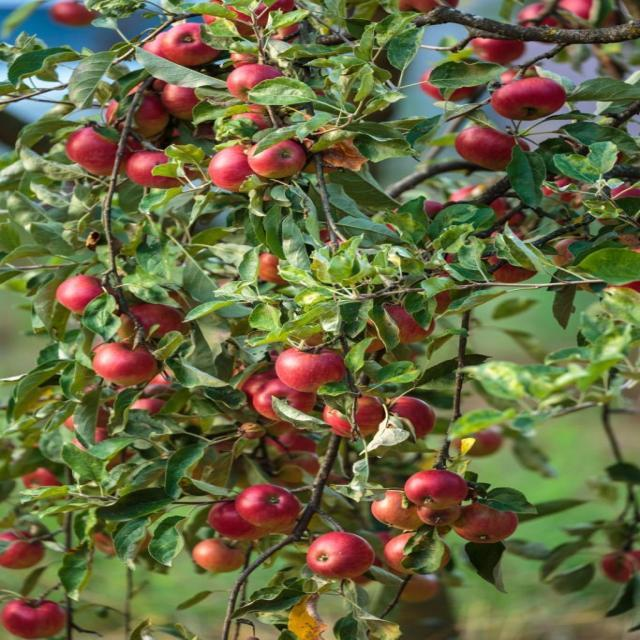Red Apple: (457, 125, 533, 178), (278, 346, 347, 390), (493, 79, 563, 122), (310, 531, 373, 577), (257, 380, 321, 421), (327, 395, 386, 438), (70, 128, 135, 167), (109, 94, 165, 137), (94, 342, 154, 381), (131, 152, 188, 192), (387, 536, 448, 573), (465, 503, 521, 543), (386, 397, 438, 440), (5, 603, 64, 640), (59, 274, 112, 314), (239, 488, 293, 526), (411, 470, 467, 506), (230, 64, 283, 102), (166, 26, 215, 67), (486, 248, 538, 286), (211, 150, 260, 190), (208, 1, 261, 36), (380, 488, 428, 526), (473, 34, 533, 64), (251, 143, 307, 175), (378, 307, 435, 338), (164, 82, 211, 119), (126, 307, 182, 338), (209, 502, 260, 534), (4, 533, 47, 570), (269, 451, 319, 481), (257, 251, 302, 281), (199, 538, 242, 568), (522, 5, 565, 35), (236, 108, 280, 137), (423, 68, 466, 97), (25, 466, 72, 491), (56, 3, 103, 28), (147, 34, 188, 61), (461, 432, 504, 457), (126, 398, 167, 423), (405, 1, 458, 20), (604, 554, 640, 580), (256, 1, 293, 26), (246, 373, 284, 396), (75, 429, 113, 451), (561, 1, 593, 26), (499, 65, 537, 86), (420, 504, 457, 524), (415, 201, 443, 216)
